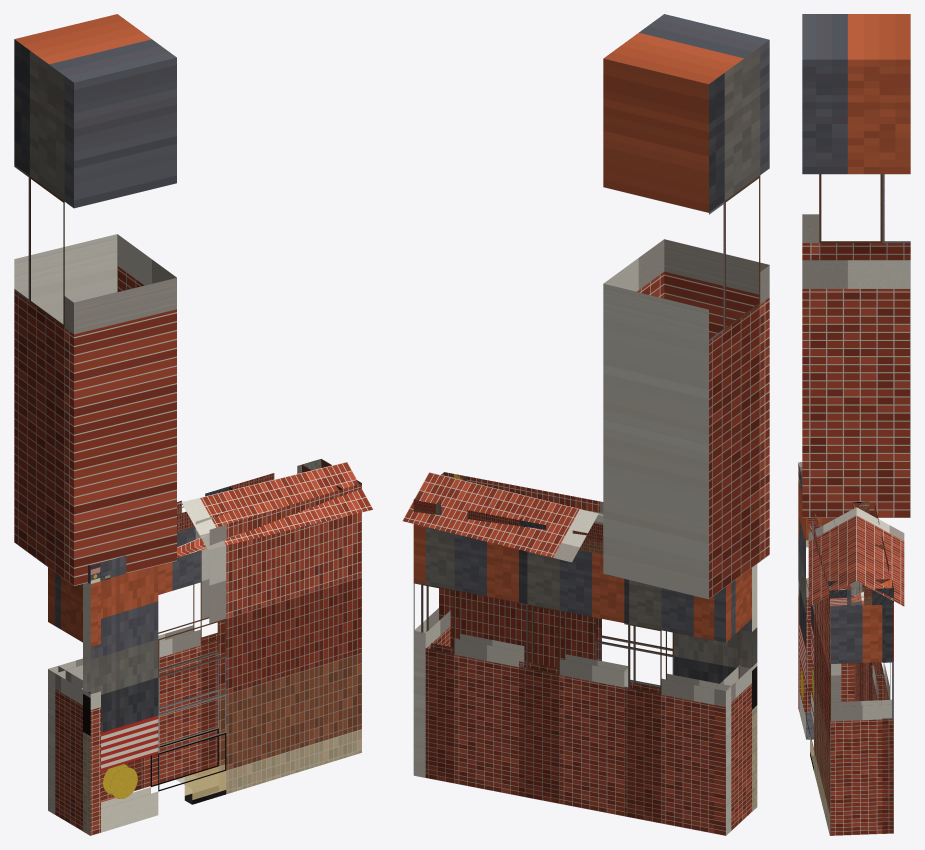
3 renders of one model, left to right at view 1: azimuth 30°, elevation 25°; view 2: azimuth 150°, elevation 25°; view 3: azimuth 270°, elevation 25°, orthographic. The views are drawn at different scales.
Visible parts, largest first — view 1: 238575824__chimney_0_xb, 238575824__wall_5_xb, 238575824__wall_1_xb, 238575824_roof_-1_xb, 238575824__wall_3_xb, 238575824__cornice_5, 238575824__wall_4_xb, 238575824__wall_2_xb, 238575824__wall_5_xf; view 2: 238575824__chimney_0_xb, 238575824__wall_1_xb, 238575824__wall_0_xb, 238575824__wall_2_xb, 238575824__wall_5_xb, 238575824_roof_1_xb, 238575824__wall_3_xb, 238575824__wall_6_xb, 238575824__cornice_5, 238575824__cornice_1; view 3: 238575824__chimney_0_xb, 238575824__wall_6_xb, 238575824__wall_5_xb, 238575824_roof_-1_xb, 238575824_roof_1_xb, 238575824__wall_0_xb, 238575824__wall_4_xb, 238575824__cornice_6, 238575824__wall_3_xb, 238575824__wall_1_xb, 238575824__cornice_5, 238575824__wall_2_xb (+1 smaller).
Boxes of the visible parts, x1,y1,x2,y2 form: 238575824__chimney_0_xb: (14,14,176,585); 238575824__wall_5_xb: (83,512,361,835); 238575824__wall_1_xb: (144,527,217,787); 238575824_roof_-1_xb: (181,462,373,549); 238575824__wall_3_xb: (55,573,82,829); 238575824__cornice_5: (88,480,361,583); 238575824__wall_4_xb: (81,581,100,835); 238575824__wall_2_xb: (48,567,144,814); 238575824__wall_5_xf: (83,694,225,803); 238575824__chimney_0_xb: (603,14,769,599); 238575824__wall_1_xb: (519,549,627,816); 238575824__wall_0_xb: (413,527,524,795); 238575824__wall_2_xb: (624,579,731,835); 238575824__wall_5_xb: (439,564,757,811); 238575824_roof_1_xb: (402,472,598,562); 238575824__wall_3_xb: (714,569,750,835); 238575824__wall_6_xb: (413,524,450,777); 238575824__cornice_5: (441,472,603,524); 238575824__cornice_1: (519,520,603,554); 238575824__chimney_0_xb: (802,14,910,517); 238575824__wall_6_xb: (830,600,891,835); 238575824__wall_5_xb: (798,484,841,835); 238575824_roof_-1_xb: (808,507,856,606); 238575824_roof_1_xb: (856,507,904,606); 238575824__wall_0_xb: (872,604,893,833); 238575824__wall_4_xb: (798,480,813,712); 238575824__cornice_6: (828,579,893,605); 238575824__wall_3_xb: (817,518,861,701); 238575824__wall_1_xb: (863,662,884,700); 238575824__cornice_5: (798,467,851,606); 238575824__wall_2_xb: (854,582,874,701).
Bounding box in the file's own units: 0.4412 × 1.05 × 0.1558.
1 material, 1 textured.
